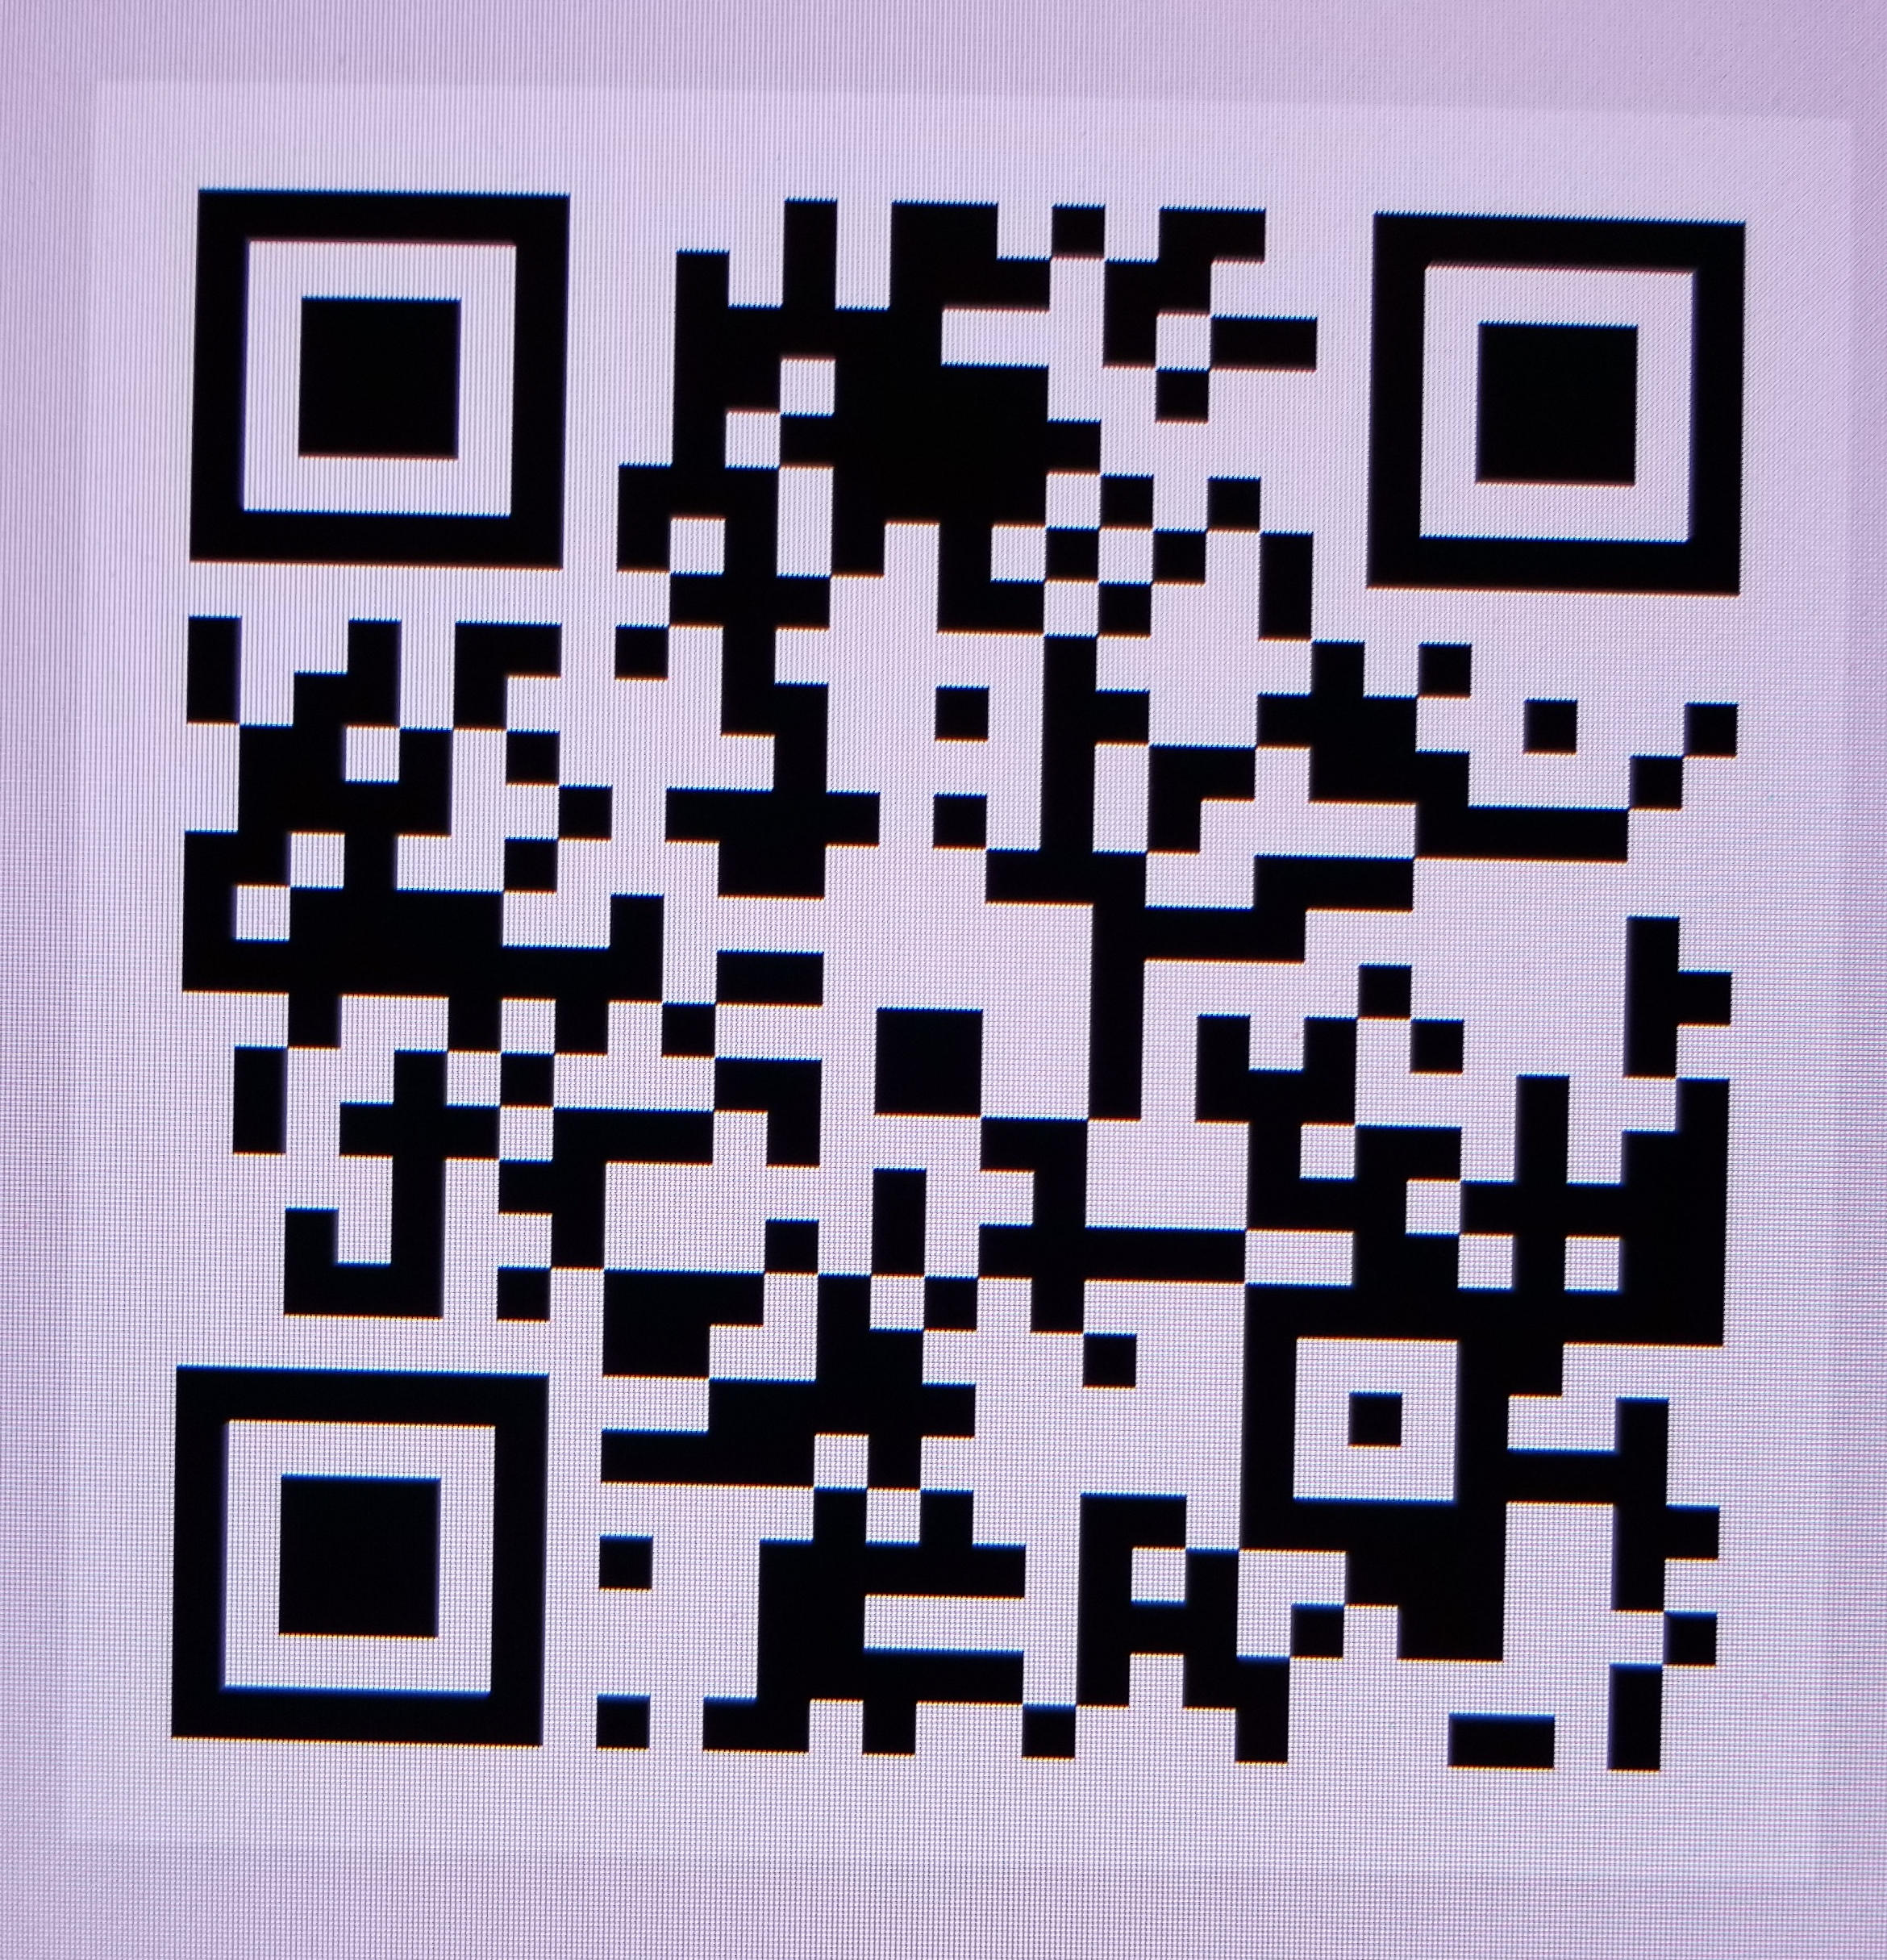QR_CODE: (103, 105, 1779, 1844)
